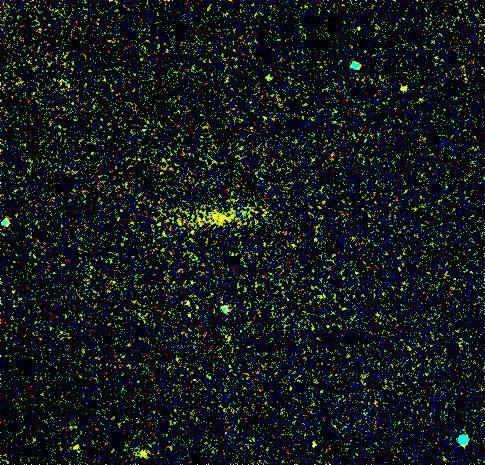star: (128, 438, 158, 465)
